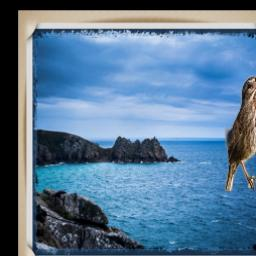Sparrow: (225, 74, 256, 191)
